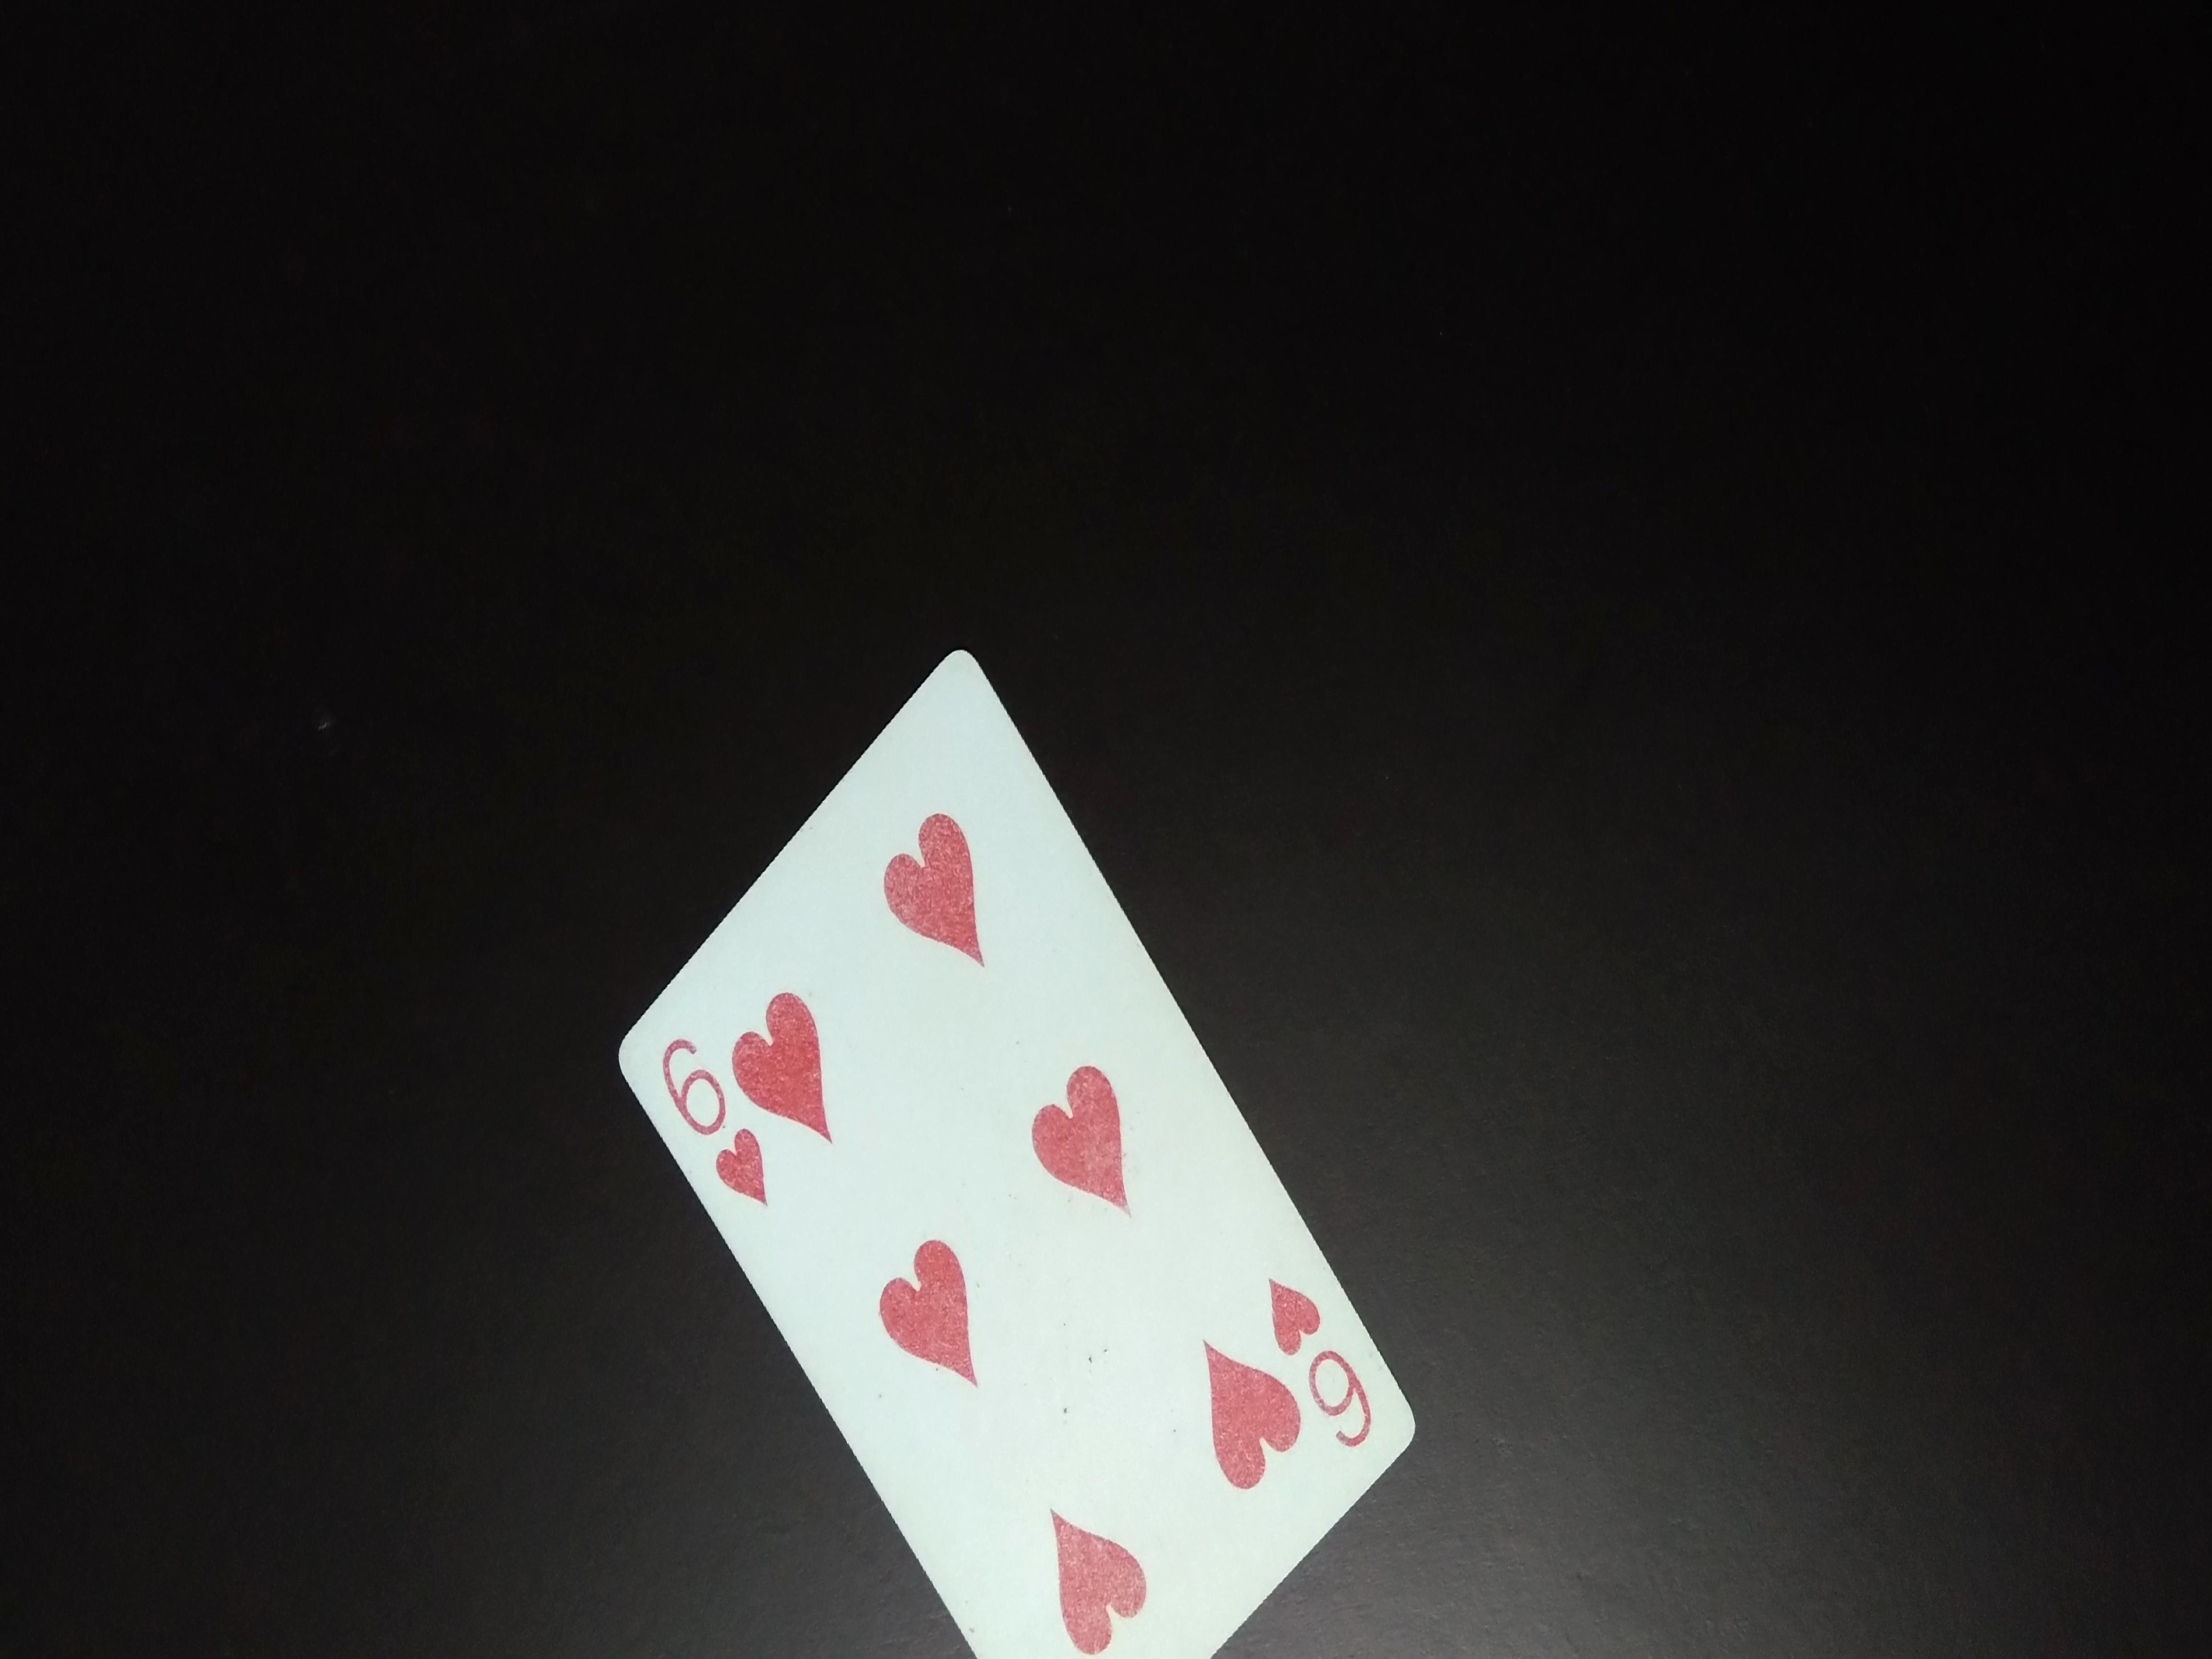6H: (658, 1026, 766, 1222)
